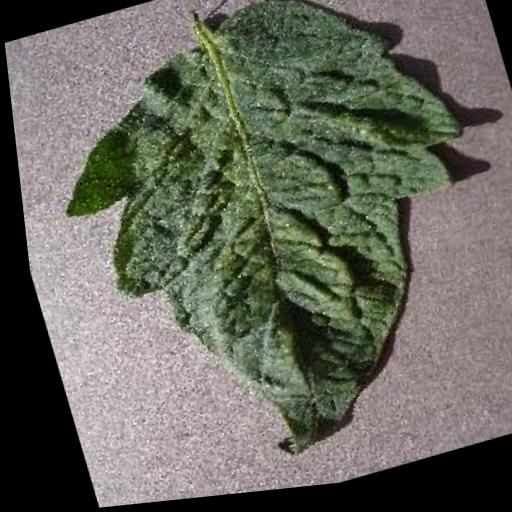Spider Mites: (13, 0, 512, 500)
